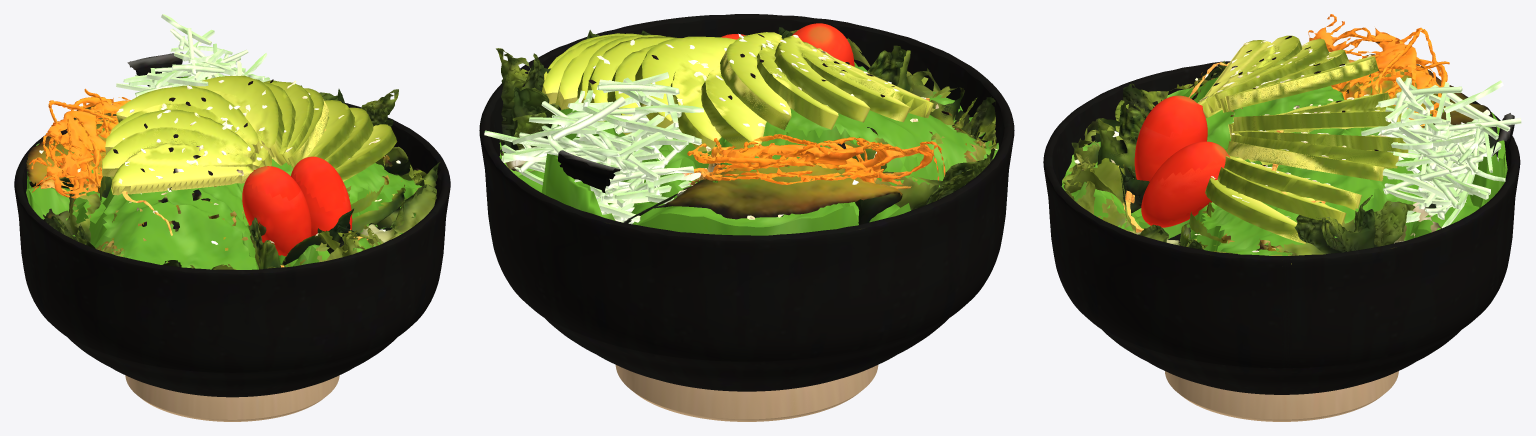
File: avocado_salad.glb
3 renders of one model, left to right at view 1: azimuth 30°, elevation 25°; view 2: azimuth 150°, elevation 25°; view 3: azimuth 270°, elevation 25°, orthographic. The views are drawn at different scales.
Visible parts, largest first — view 1: ing_base, ing_romaine, ing_avocado, ing_cherryTomato, ing_carrot, ing_cucumber, ing_sesame; view 2: ing_base, ing_romaine, ing_avocado, ing_cucumber, ing_carrot, ing_cherryTomato, ing_sesame; view 3: ing_base, ing_romaine, ing_avocado, ing_cucumber, ing_cherryTomato, ing_carrot, ing_sesame, ing_gingerDressing.
Boxes of the visible parts, box(x1,y1,x2,y2) form: ing_base: box(14, 103, 450, 421); ing_romaine: box(26, 52, 440, 269); ing_avocado: box(102, 75, 397, 195); ing_cherryTomato: box(242, 156, 352, 256); ing_carrot: box(29, 88, 130, 201); ing_cucumber: box(116, 14, 269, 97); ing_sesame: box(39, 79, 419, 244); ing_base: box(479, 14, 1014, 421); ing_romaine: box(496, 27, 998, 235); ing_avocado: box(542, 32, 934, 157); ing_cucumber: box(484, 72, 703, 224); ing_carrot: box(682, 134, 945, 188); ing_cherryTomato: box(721, 23, 854, 66); ing_sesame: box(588, 33, 997, 219); ing_base: box(1043, 61, 1520, 421); ing_romaine: box(1061, 54, 1514, 255); ing_avocado: box(1197, 35, 1408, 243); ing_cucumber: box(1361, 77, 1521, 228); ing_cherryTomato: box(1134, 95, 1230, 227); ing_carrot: box(1308, 14, 1449, 135); ing_sesame: box(1074, 36, 1464, 252); ing_gingerDressing: box(1117, 62, 1325, 232).
Size of the model in its own units: 0.1596 by 0.1145 by 0.16.
Materials: 1 (1 with a texture image).
